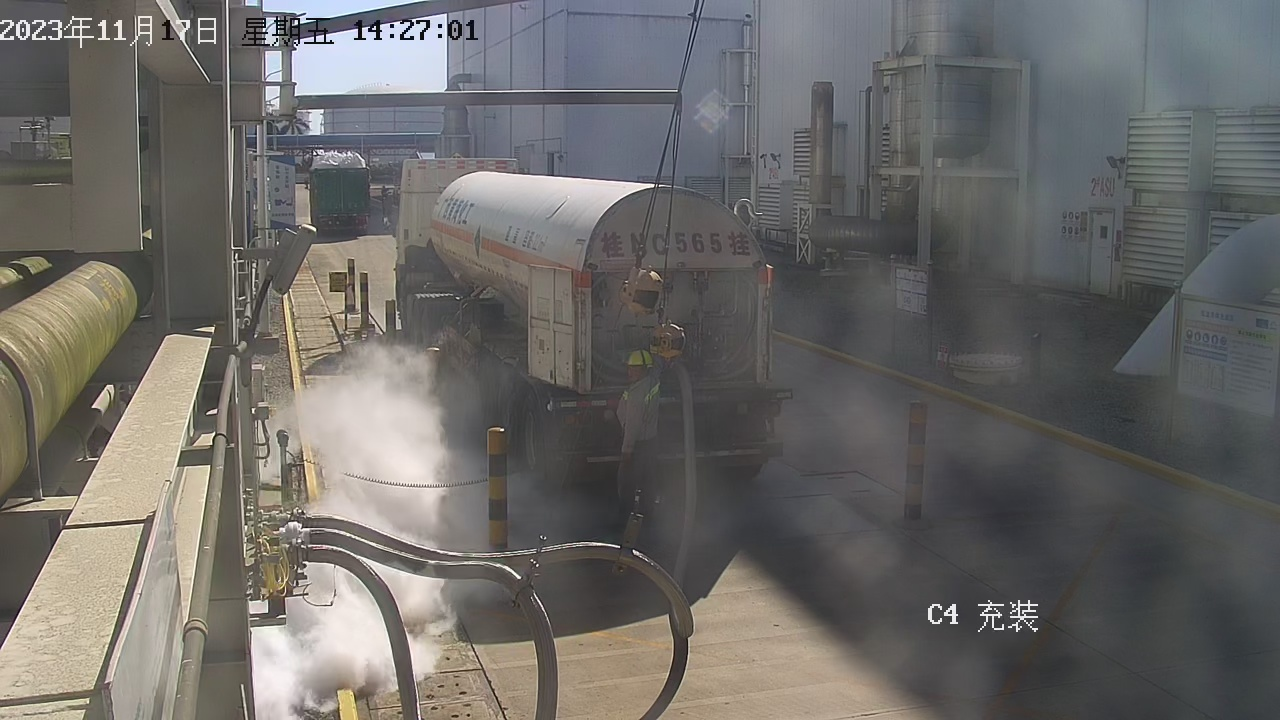Head_with_Helmet: (611, 340, 659, 385)
Uniform: (590, 372, 668, 531)
